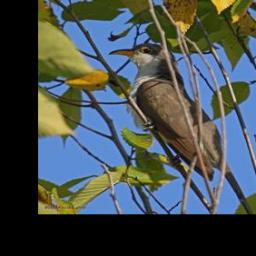Cuckoo: (80, 43, 224, 181)
